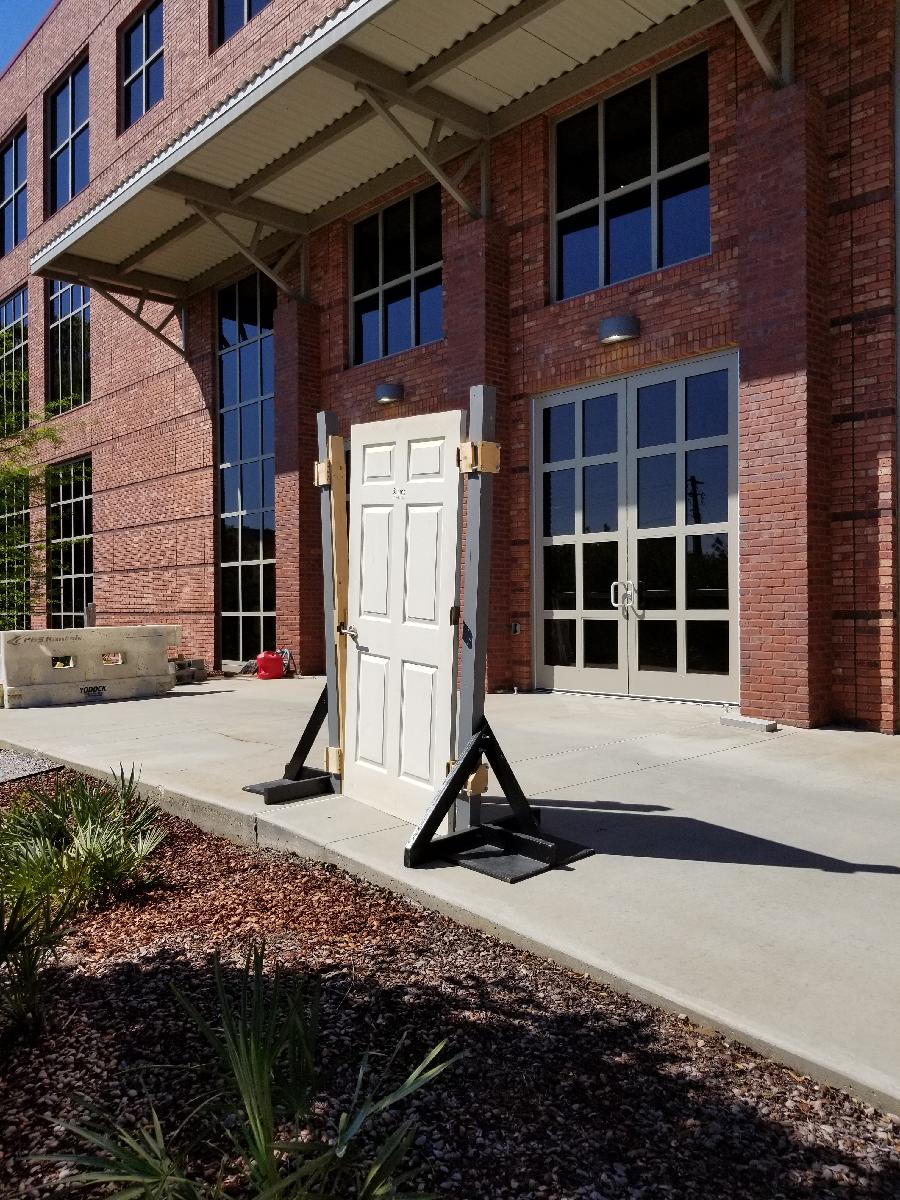door: (338, 404, 469, 846)
doorHandle: (341, 615, 364, 649)
